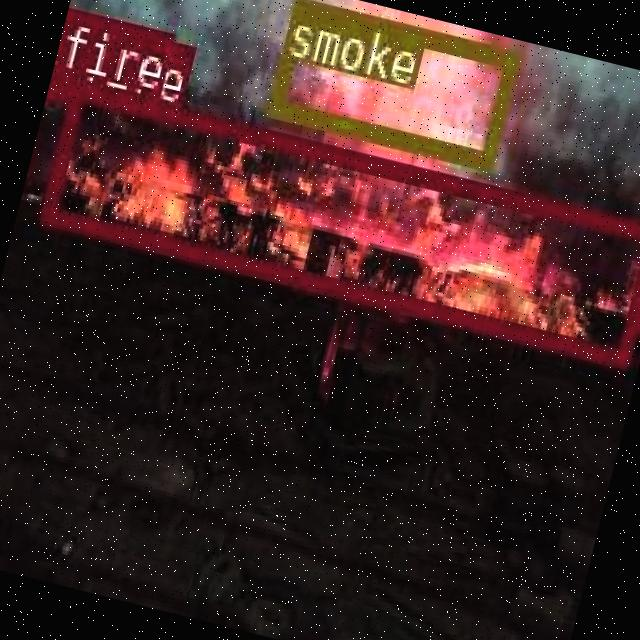fire: (37, 76, 640, 362), (46, 64, 85, 102)
smoke: (265, 0, 517, 165)
